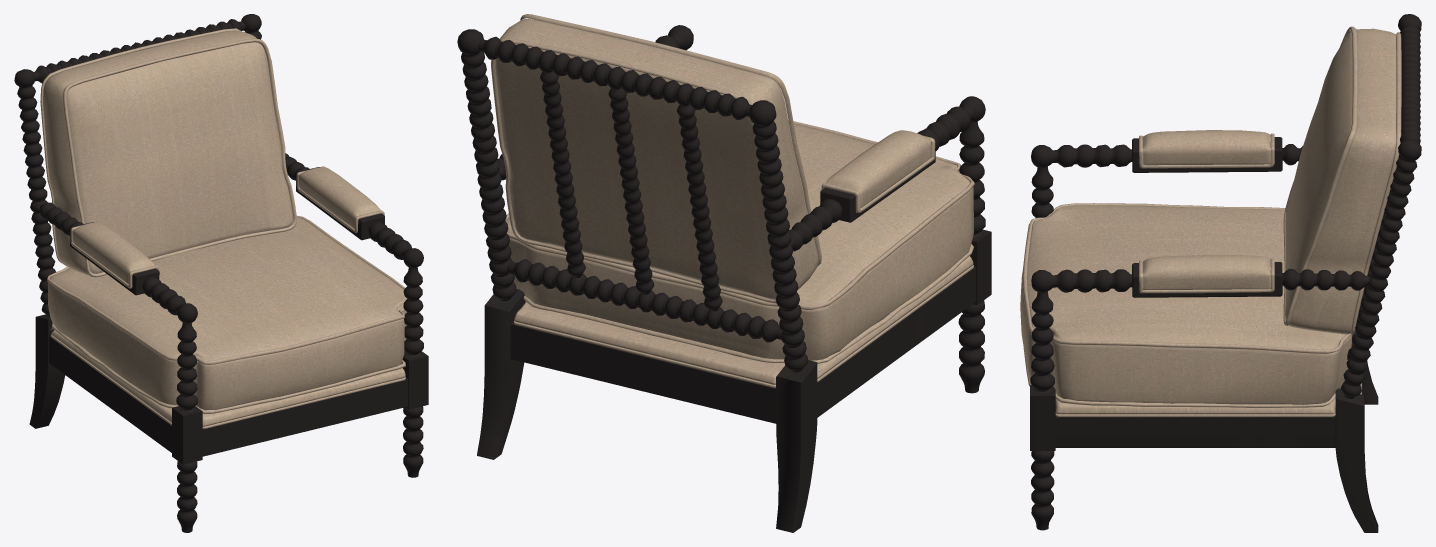
File: abo-B07DBG2663.glb
3 renders of one model, left to right at view 1: azimuth 30°, elevation 25°; view 2: azimuth 150°, elevation 25°; view 3: azimuth 270°, elevation 25°, orthographic. The views are drawn at different scales.
Size of the model in its own units: 0.555 by 0.703 by 0.656.
1 material, 1 textured.
